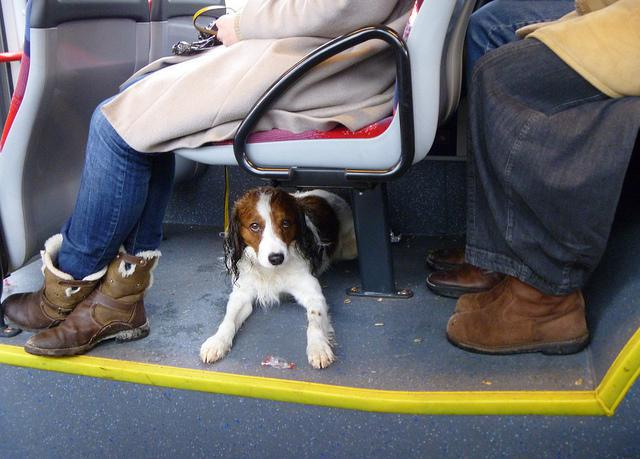hand: (196, 16, 254, 56)
